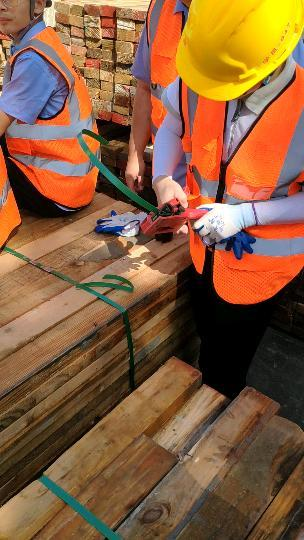helmet: (171, 1, 301, 102)
person: (163, 1, 304, 373), (1, 1, 105, 233), (125, 1, 207, 195)
vest: (185, 92, 304, 306), (1, 34, 99, 207), (141, 4, 185, 143)
wood: (1, 193, 232, 476), (1, 338, 304, 540)
